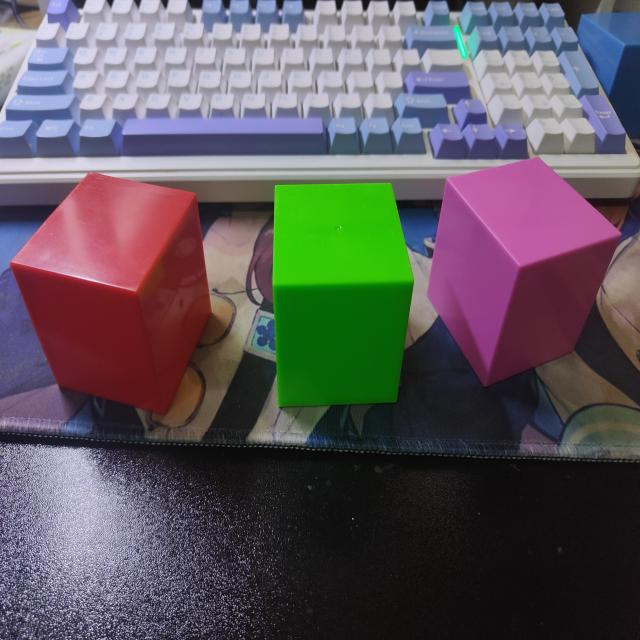green: (271, 183, 415, 412)
pink: (423, 160, 621, 390)
red: (9, 174, 212, 420)
